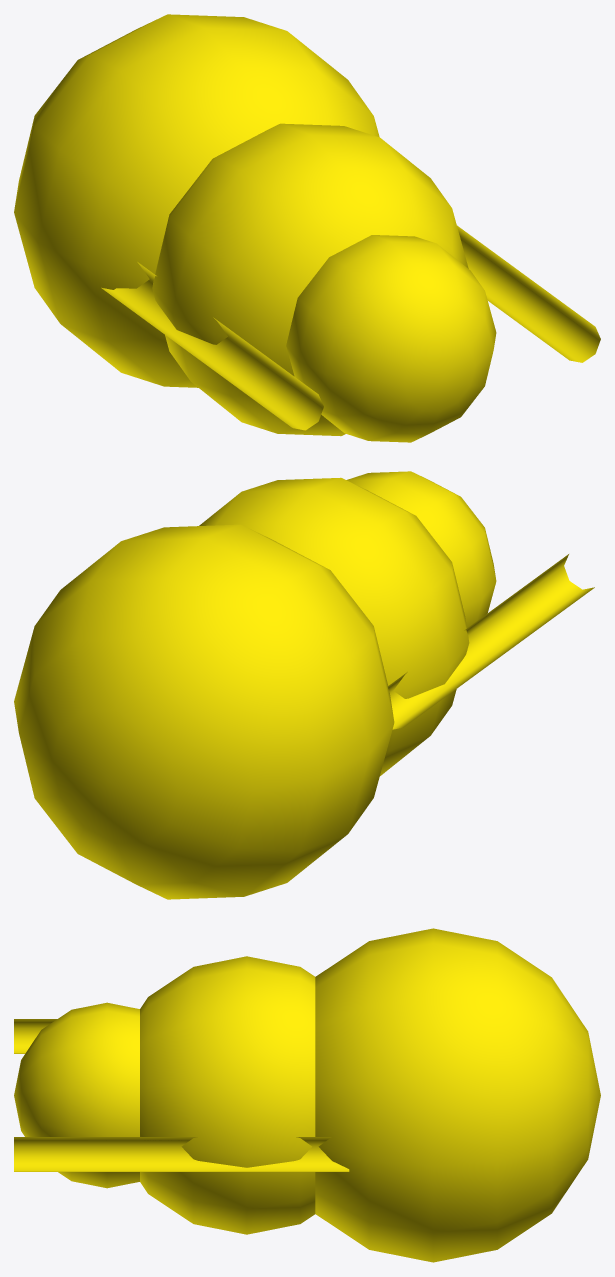
The model's file is t9_gold.glb.
3 renders of one model, top to bottom at view 1: azimuth 30°, elevation 25°; view 2: azimuth 150°, elevation 25°; view 3: azimuth 270°, elevation 25°, orthographic. The views are drawn at different scales.
Parts seen in each view (by area): view 1: Native Bee; view 2: Native Bee; view 3: Native Bee.
Boxes of the visible parts, bbox=[...] form: Native Bee: bbox=[14, 14, 600, 442]; Native Bee: bbox=[14, 471, 594, 899]; Native Bee: bbox=[14, 928, 600, 1262].
Size of the model in its own units: 0.36 by 0.36 by 0.63.
